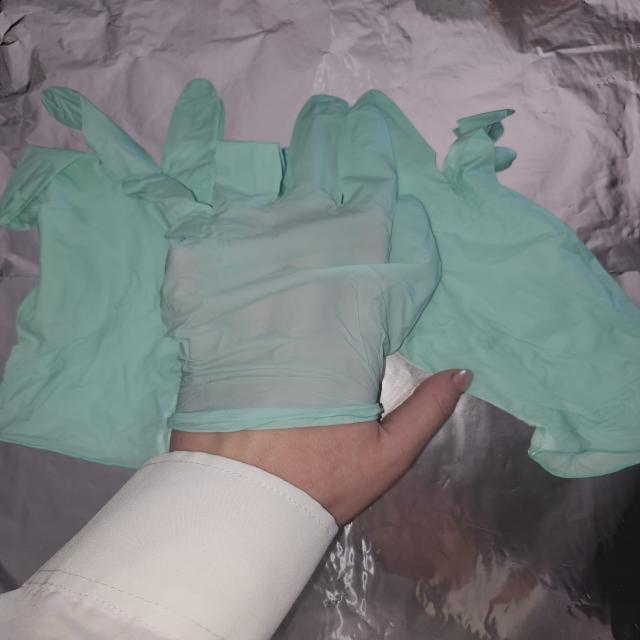glove_partial: (120, 96, 477, 483)
